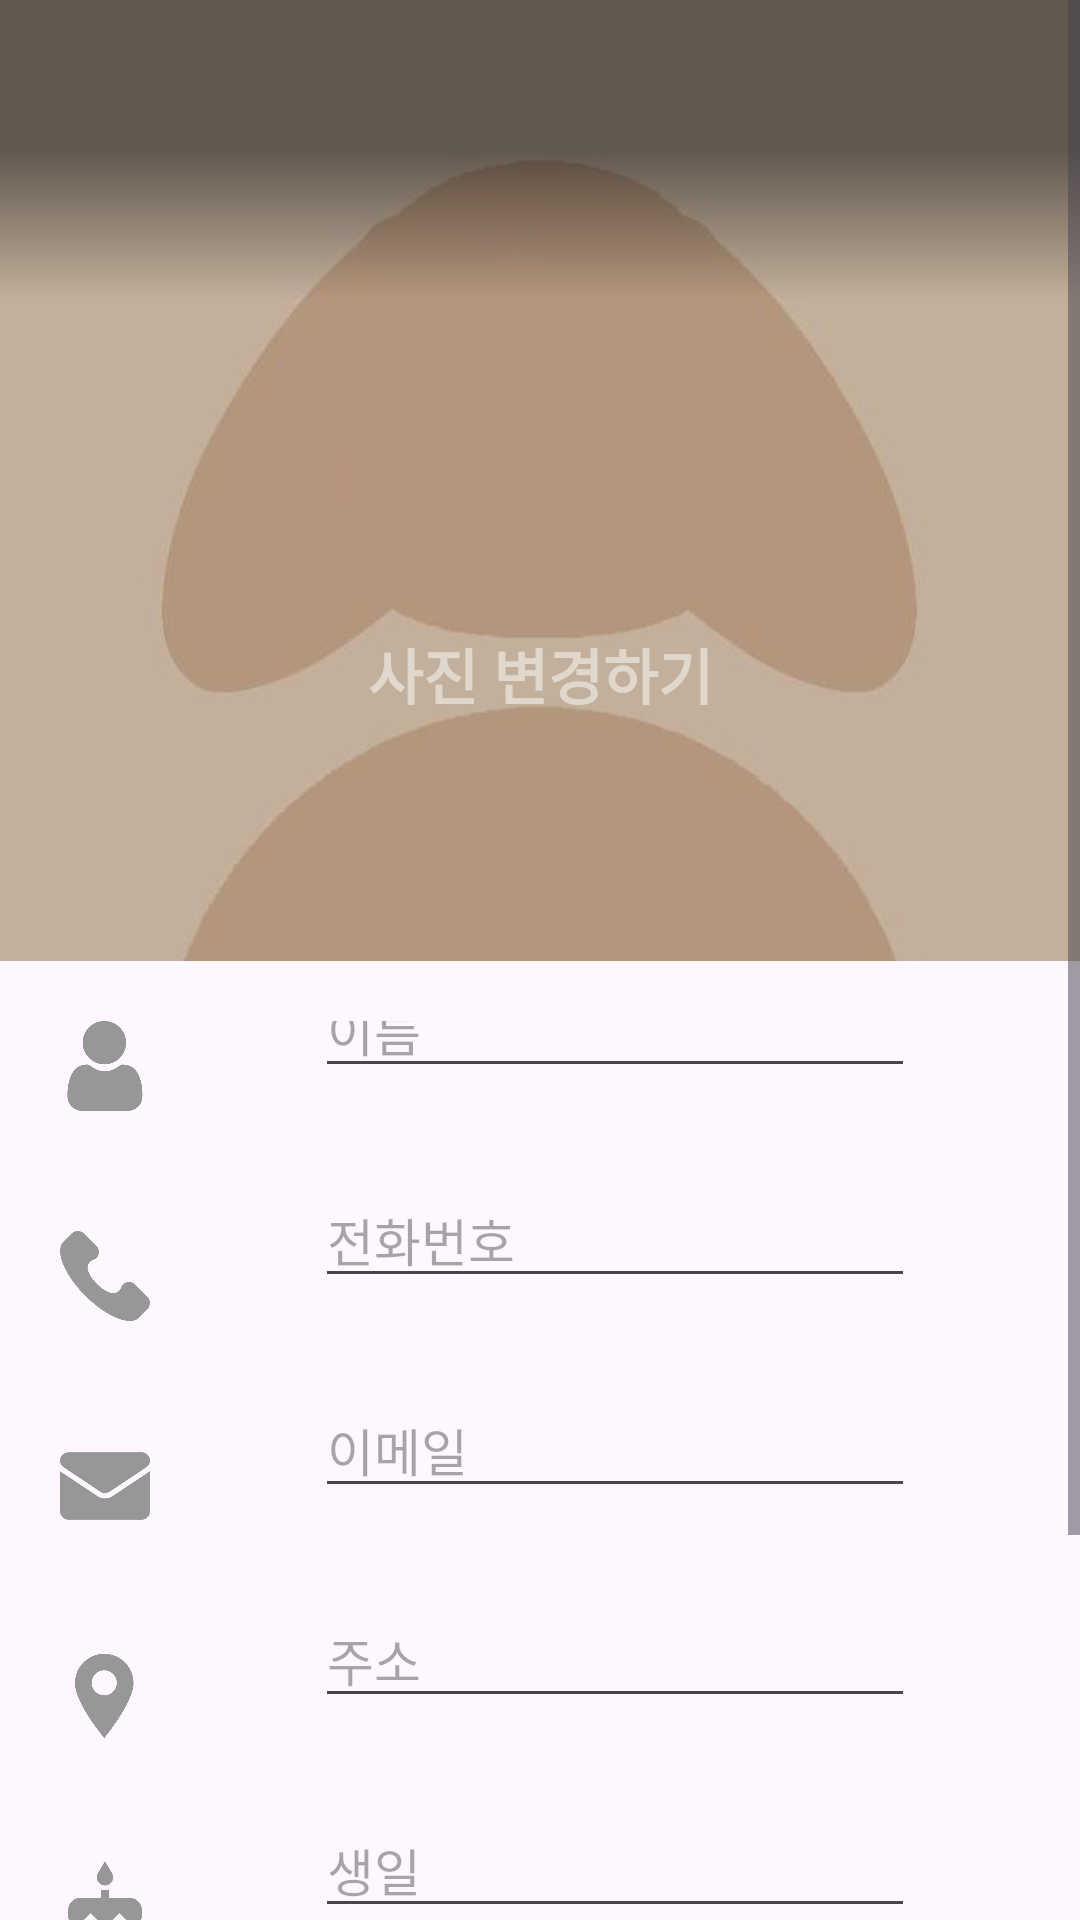

Named icons in this screenshot (1080×1920) and their bounding boxes, region(x1, y1, x2, y2):
address: region(75, 1654, 134, 1738)
call: region(60, 1231, 150, 1321)
email: region(60, 1452, 150, 1520)
user: region(67, 1021, 143, 1111)
